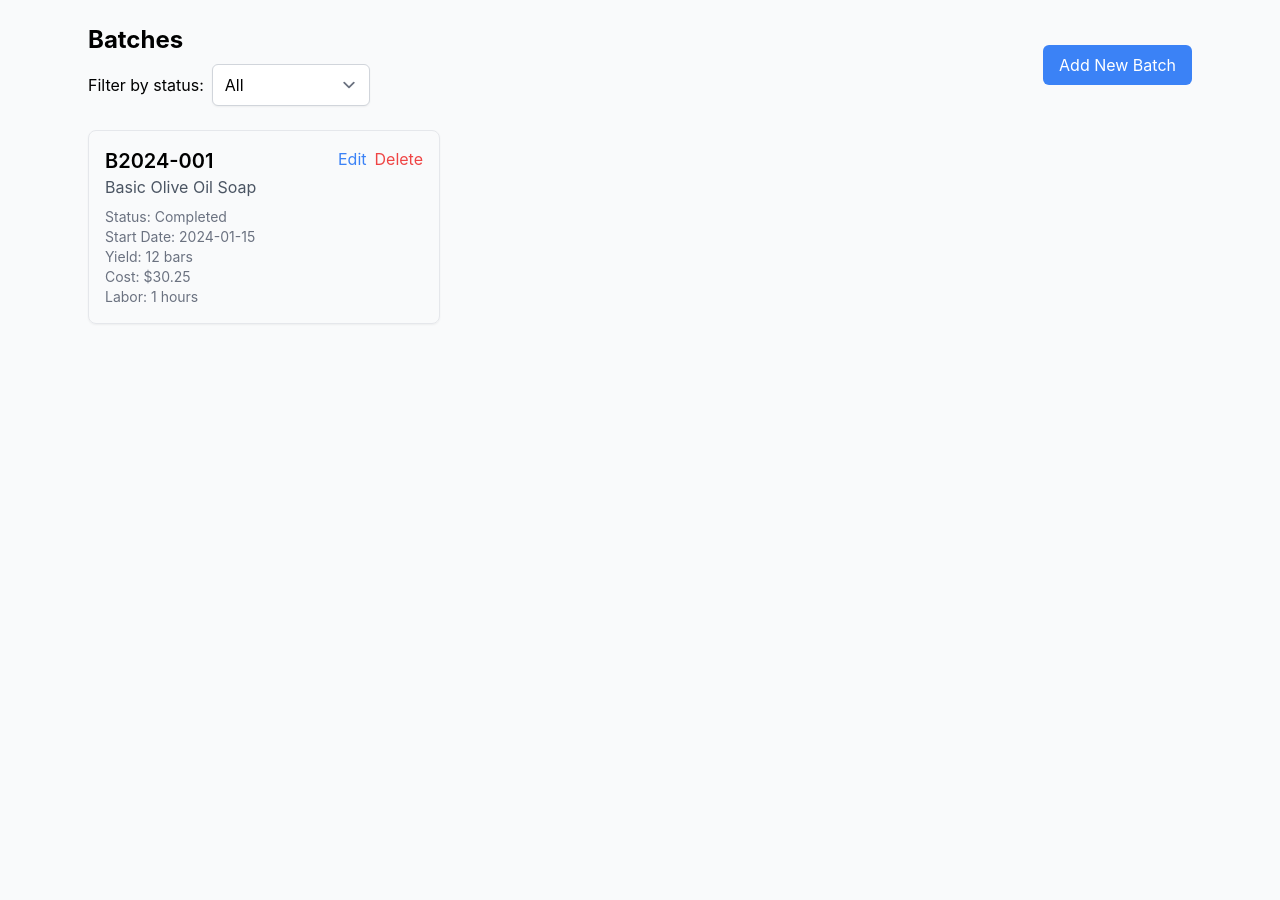
Test case: Batches Component › can edit batch
Click the button "Edit" at x=352, y=159, box left=338, top=147, right=366, bottom=171
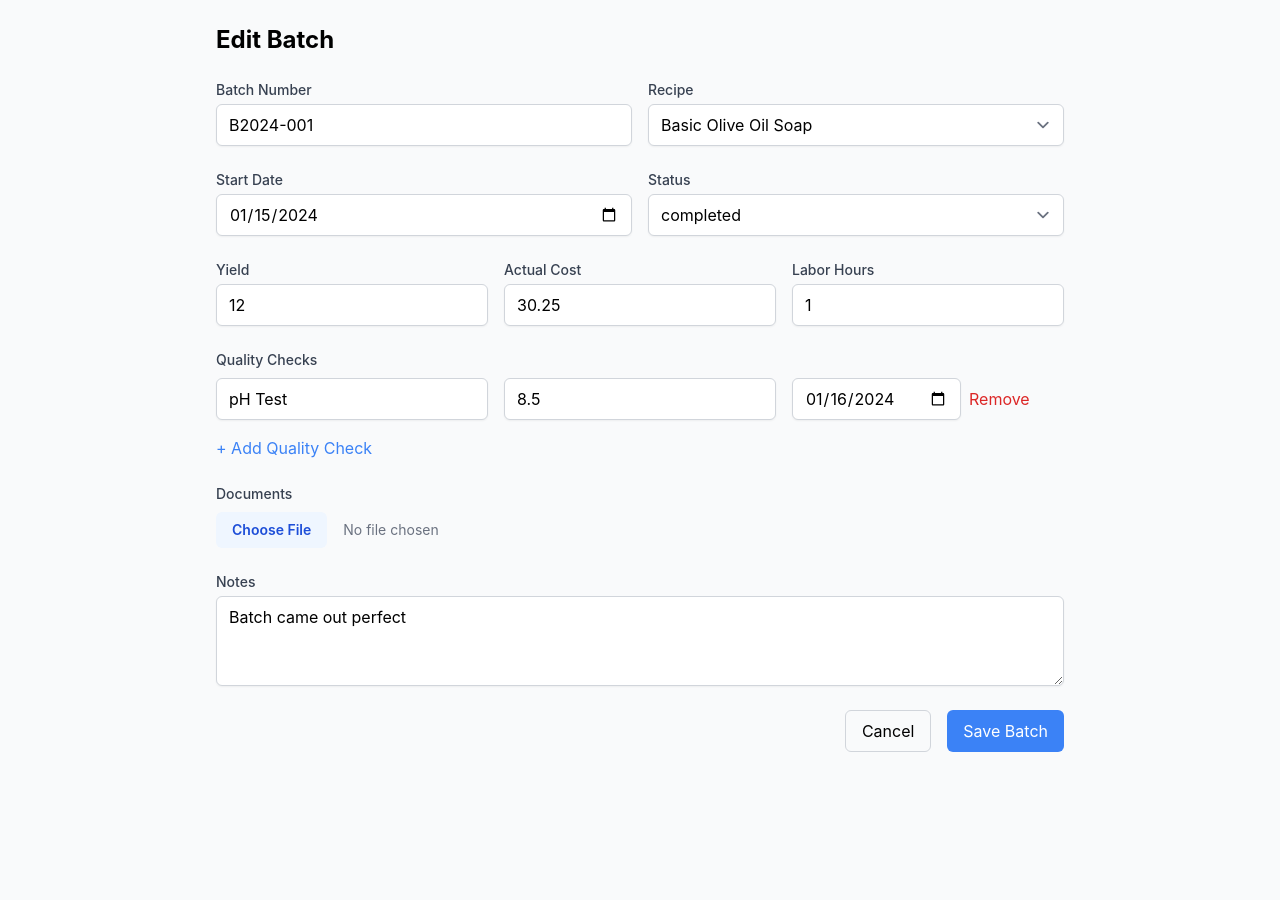
Check: the heading "Edit Batch" is shown, box left=216, top=25, right=334, bottom=54
